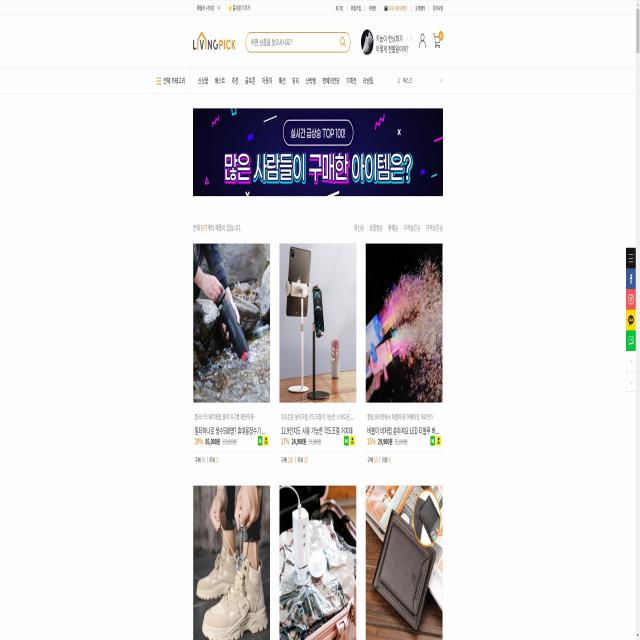menu-bar: (417, 28, 448, 54)
search: (245, 28, 352, 58)
tab-bar: (196, 70, 376, 88), (334, 1, 444, 13)
